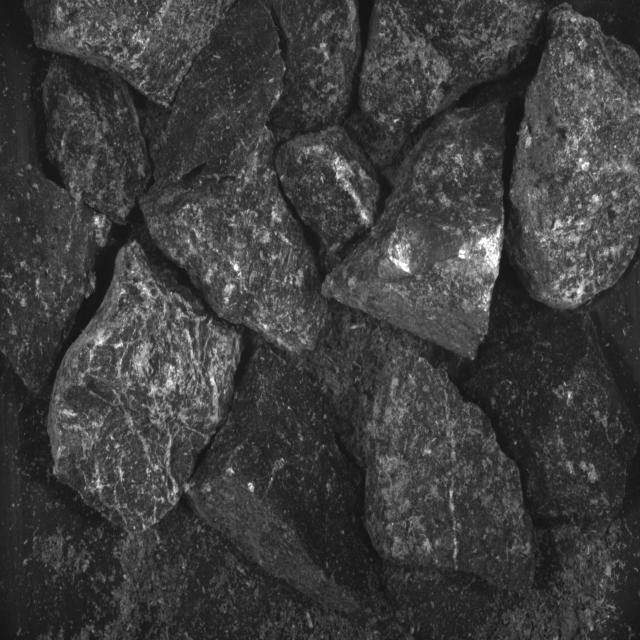Stones: (49, 243, 241, 533), (187, 344, 374, 615), (324, 104, 506, 359), (366, 346, 535, 593), (141, 131, 327, 352), (507, 7, 640, 309), (469, 308, 640, 525), (360, 1, 545, 169), (157, 3, 286, 185), (26, 1, 234, 107), (1, 166, 97, 393), (44, 60, 151, 226), (269, 1, 362, 143), (276, 128, 381, 253)
